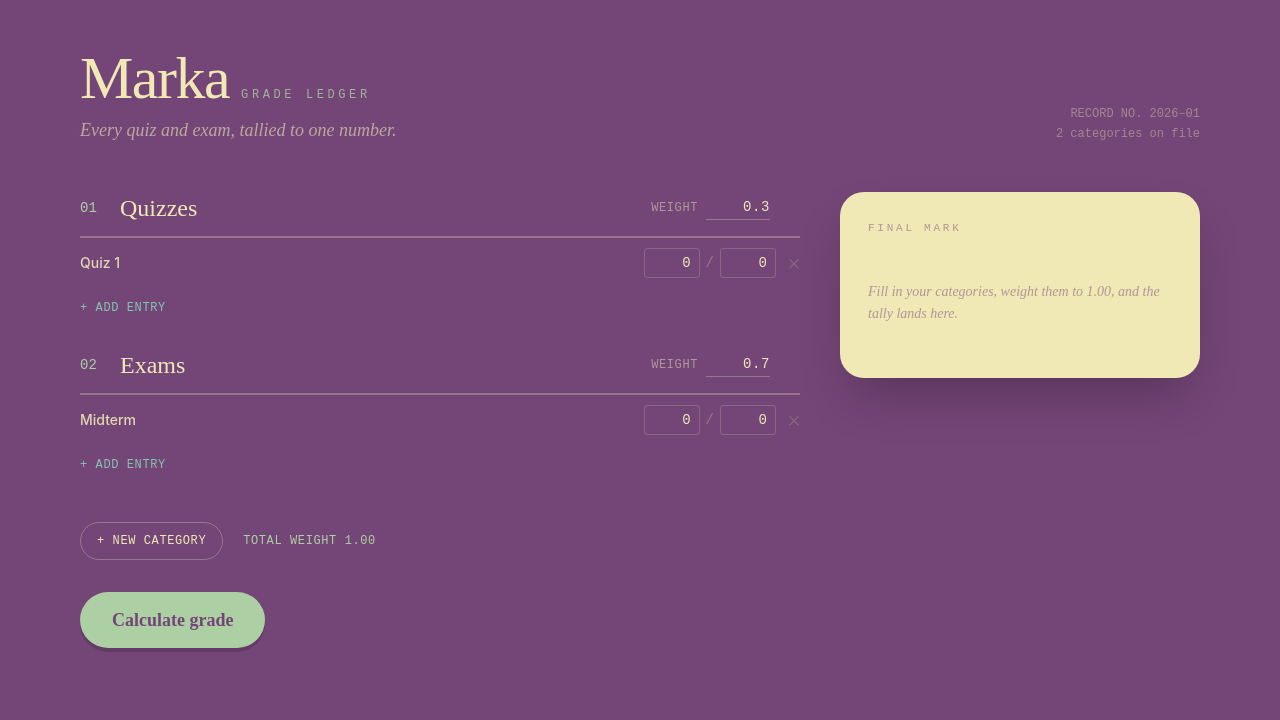
Scenario: App › adds an assessment
Click the 1st button "+ add entry". click: click(123, 308)
box: [80, 300, 166, 316]
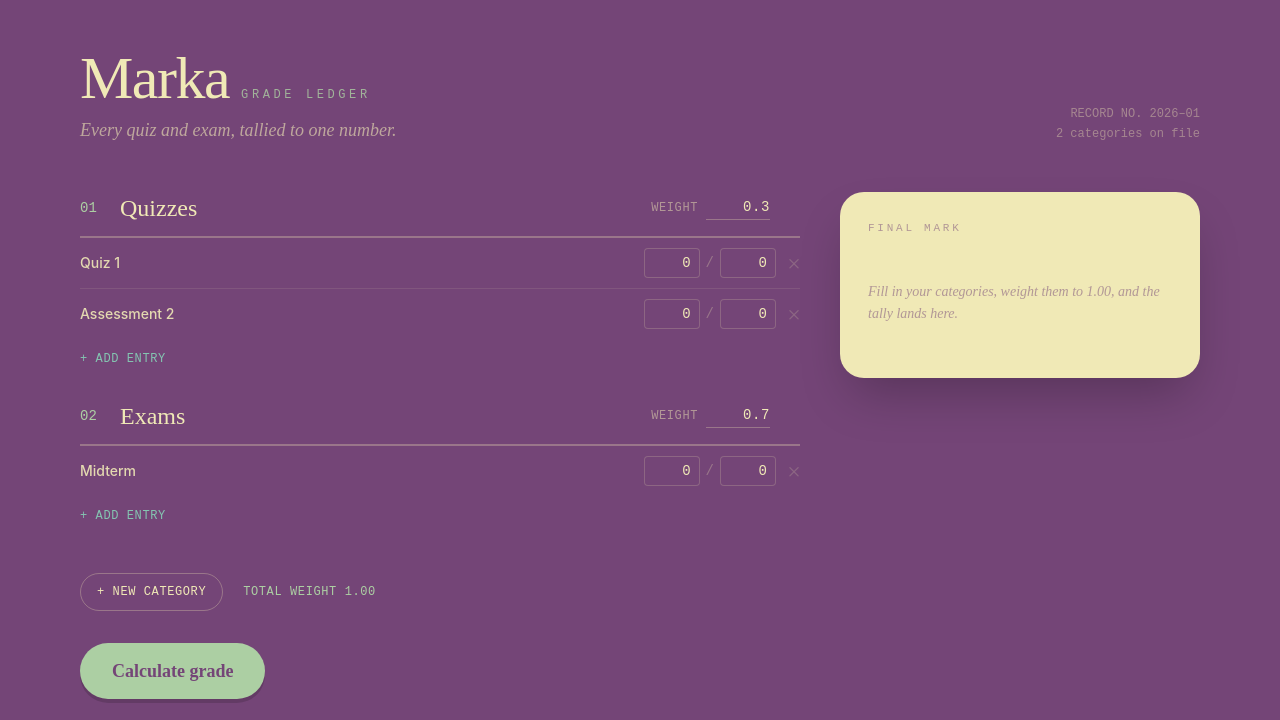
expect the number of fields with placeholder "Assessment name" is 3: met, box [80, 253, 632, 273]; [80, 304, 632, 324]; [80, 461, 632, 481]
